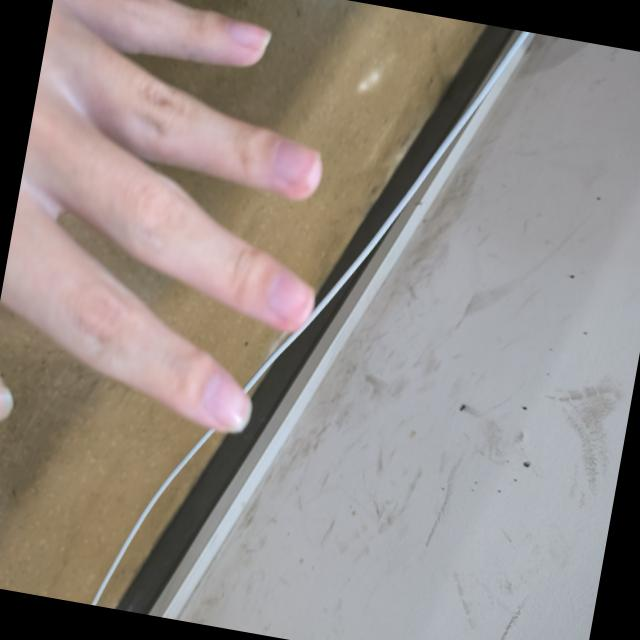Nail: (200, 372, 250, 432), (267, 269, 312, 327), (270, 141, 318, 188), (227, 21, 271, 51), (0, 386, 11, 420)
